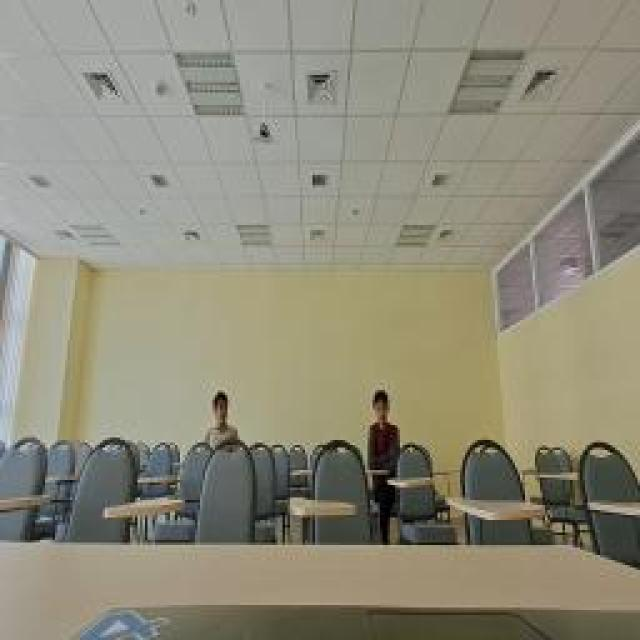study: (200, 390, 240, 460), (368, 390, 400, 470)
